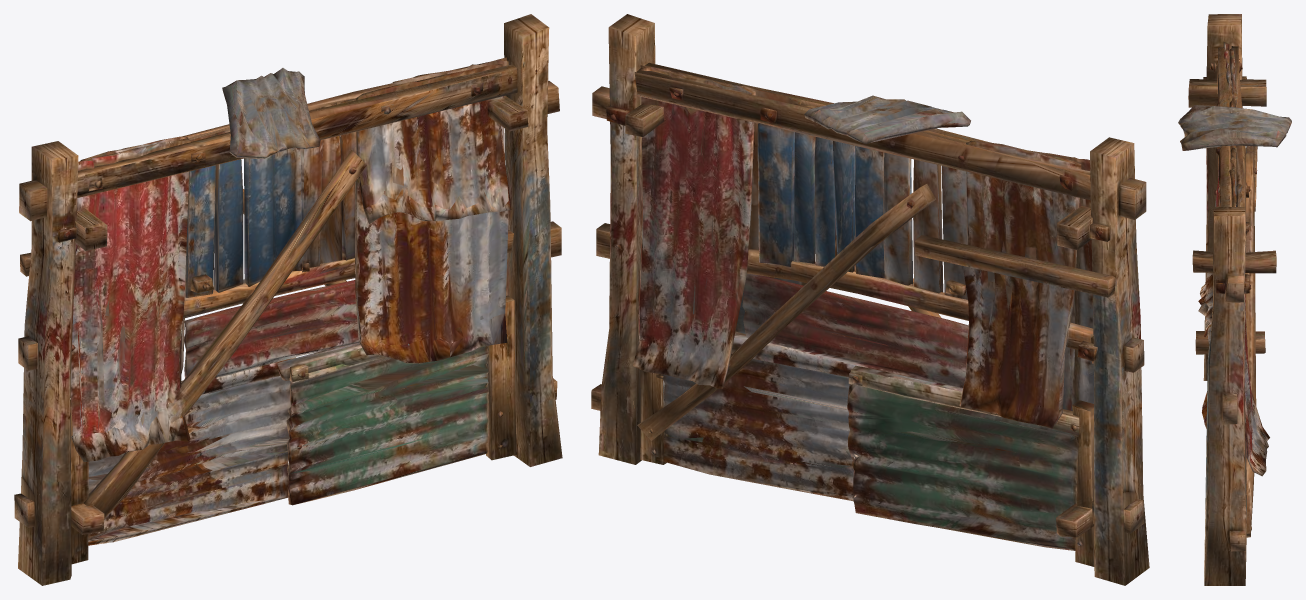
Rendered from roof_wall_2.glb.
3 renders of one model, left to right at view 1: azimuth 30°, elevation 25°; view 2: azimuth 150°, elevation 25°; view 3: azimuth 270°, elevation 25°, orthographic. The views are drawn at different scales.
Parts seen in each view (by area): view 1: Mesh0; view 2: Mesh0; view 3: Mesh0.
Part boxes in pixels (box(x1,y1,x2,y2)): Mesh0: box(14, 14, 562, 585); Mesh0: box(591, 14, 1149, 585); Mesh0: box(1178, 14, 1291, 585).
Bounding box in the file's own units: 1 × 0.768 × 0.2158.
Materials: 1 (1 with a texture image).
